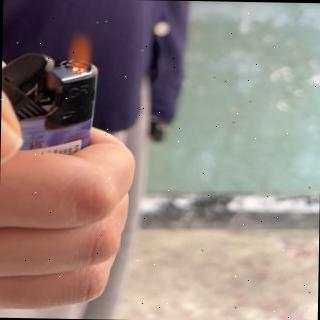fire: (64, 29, 92, 74)
